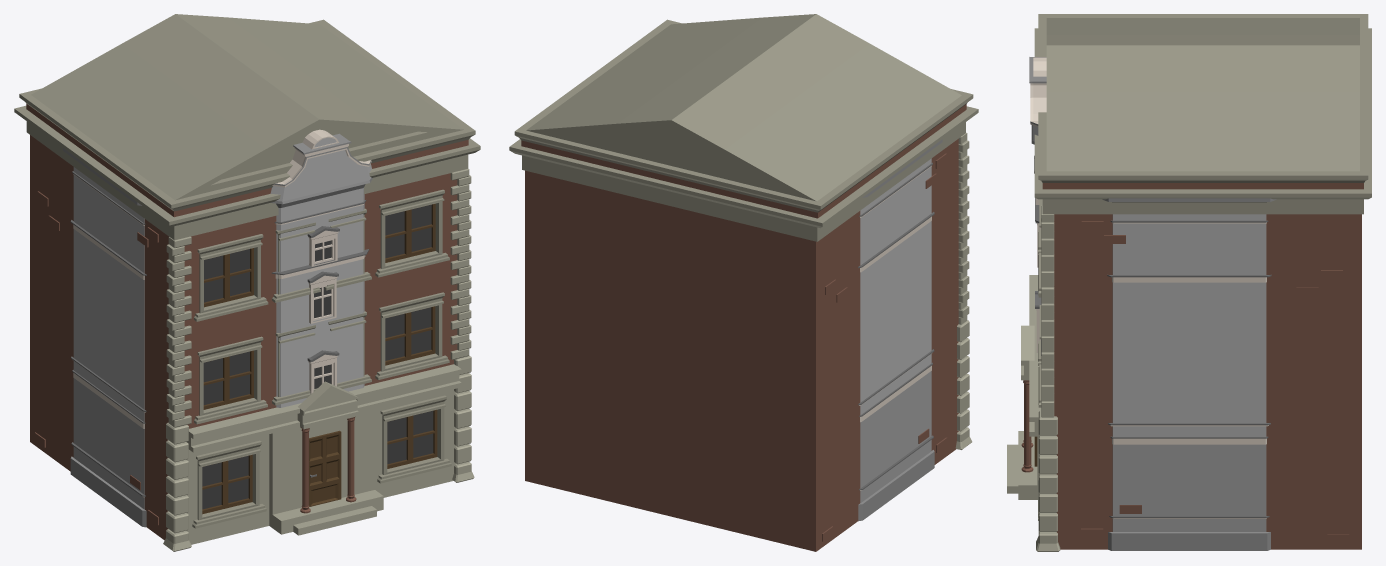
The model's file is city-buildings.glb.
The picture shows the model from 3 angles, left to right: view 1: azimuth 30°, elevation 25°; view 2: azimuth 150°, elevation 25°; view 3: azimuth 270°, elevation 25°; orthographic projection. The views are drawn at different scales.
Parts seen in each view (by area): view 1: Building3_Big, Building4; view 2: Building3_Big, Building4; view 3: Building3_Big, Building4.
Part boxes in pixels (box(x1,y1,x2,y2)): Building3_Big: box(14, 14, 480, 551); Building4: box(63, 129, 372, 527); Building3_Big: box(509, 14, 978, 551); Building4: box(858, 139, 942, 521); Building3_Big: box(1007, 14, 1371, 551); Building4: box(1029, 57, 1276, 550).
Size of the model in its own units: 4.71 by 5.68 by 4.39.
